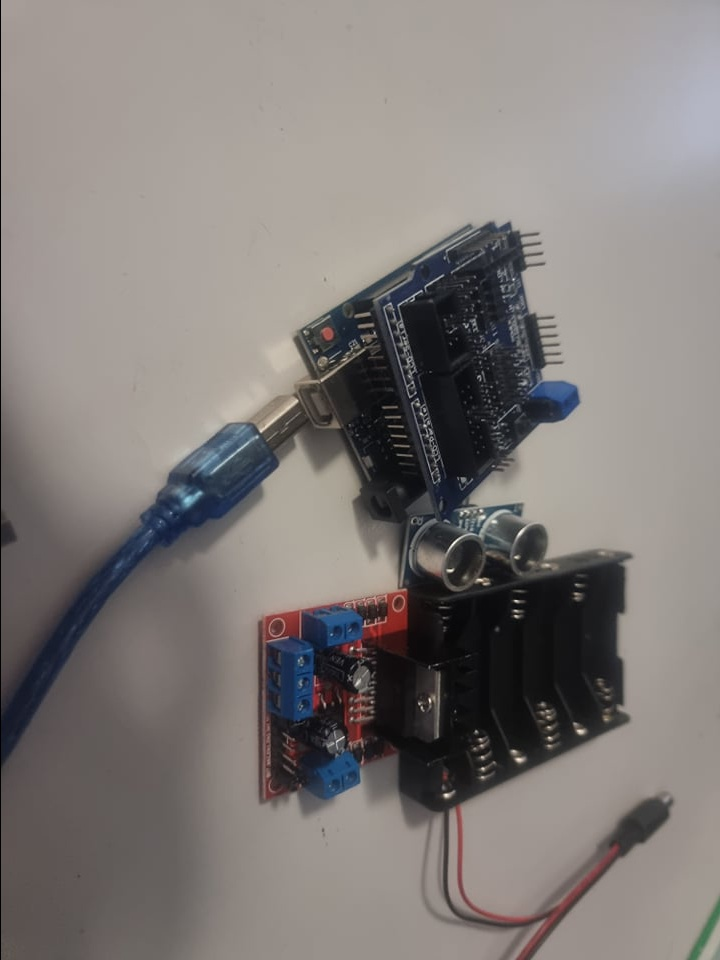5V EXPANSION: (401, 221, 579, 518)
BATTERY BOX: (398, 541, 630, 811)
MOTOR: (254, 603, 466, 806)
SENSOR: (396, 496, 550, 589)
UNO R3: (290, 308, 404, 545)
